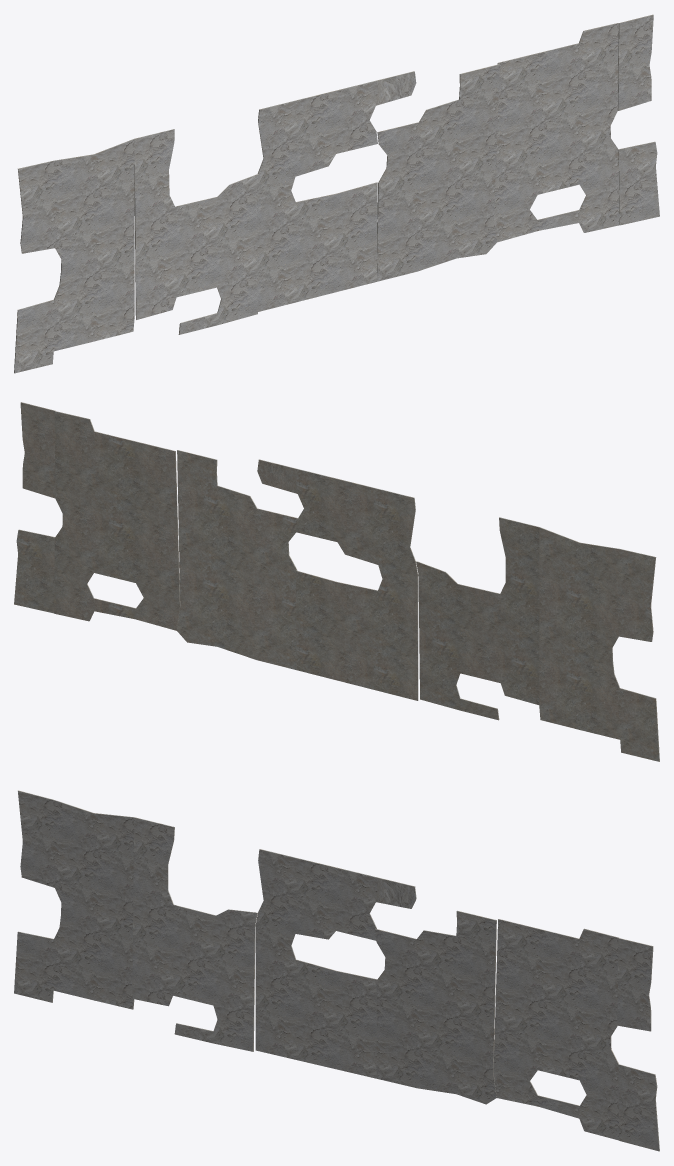
File: WallpapperTrippleB.fbx
The picture shows the model from 3 angles, top to bottom: view 1: azimuth 30°, elevation 25°; view 2: azimuth 150°, elevation 25°; view 3: azimuth 330°, elevation 25°; orthographic projection.
Visible parts, largest first — view 1: WallpapperTrippleB; view 2: WallpapperTrippleB; view 3: WallpapperTrippleB.
Part boxes in pixels (x1,y1,x2,y2): WallpapperTrippleB: (14,14,659,373); WallpapperTrippleB: (14,402,659,761); WallpapperTrippleB: (14,790,659,1151).
Bounding box in the file's own units: 1210 × 368 × 8.6.
